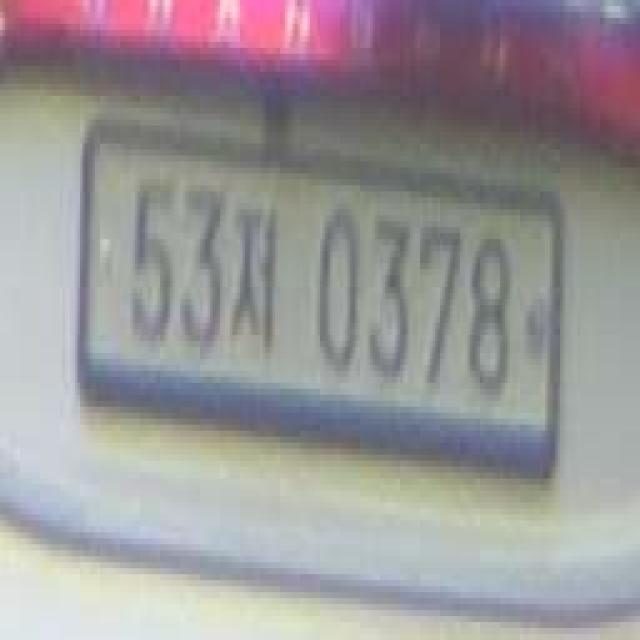0: (305, 155, 365, 395)
3: (178, 161, 230, 389), (373, 180, 415, 424)
5: (125, 161, 177, 371)
7: (420, 203, 460, 389)
8: (468, 215, 518, 437)
jeo: (225, 191, 290, 353)
license_plate: (72, 101, 562, 496)
